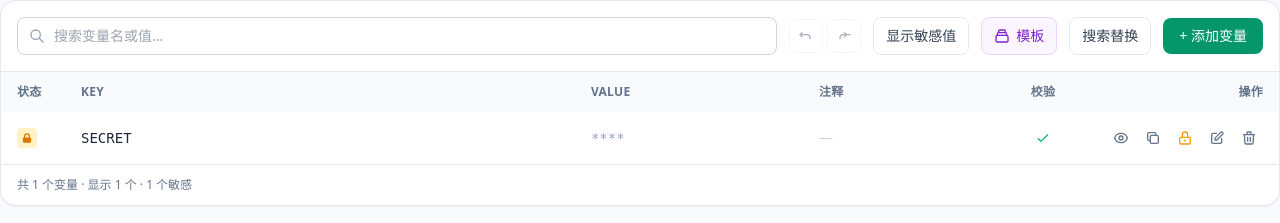
Test: EnvTable › 敏感值默认脱敏显示为 *，行内显隐按钮可切换
Check: the text "****" is shown, box [591,130,625,146]
Click the button named "显示敏感值".
click(1121, 138)  # box [1107,124,1135,152]
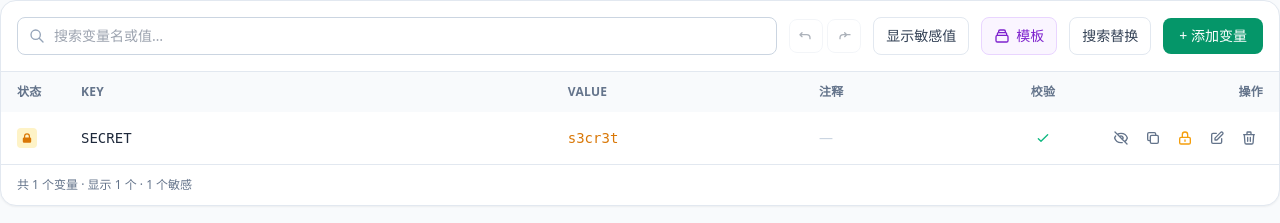
Check: the text "s3cr3t" is shown, box [568,130,618,146]
